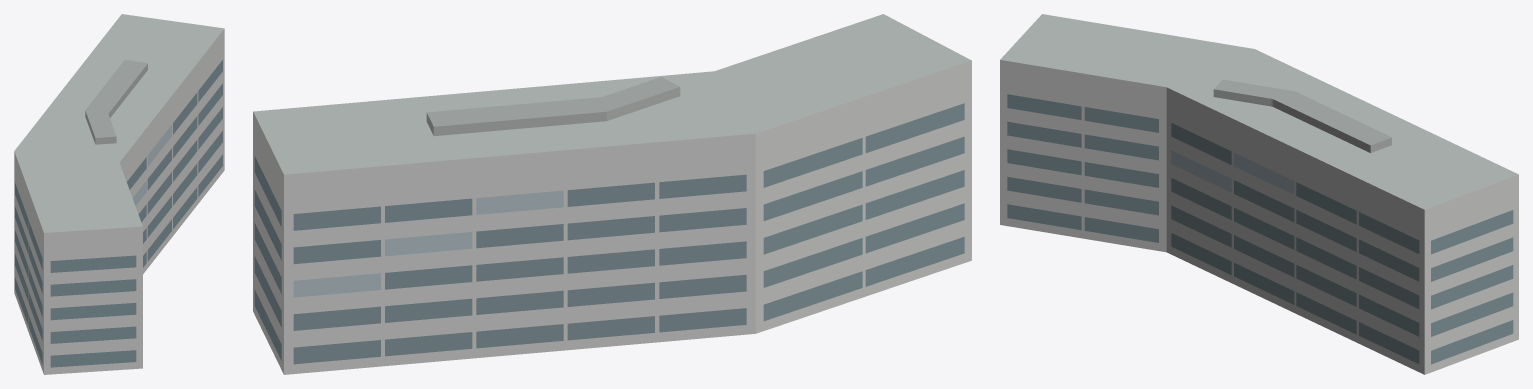
File: fallback-dh-honor-hills-301.glb
3 views of the same model, side by side, from view 1: azimuth 30°, elevation 25°; view 2: azimuth 150°, elevation 25°; view 3: azimuth 270°, elevation 25° (orthographic). The views are drawn at different scales.
Visible parts, largest first — view 1: fallback-dh-honor-hills-301; view 2: fallback-dh-honor-hills-301; view 3: fallback-dh-honor-hills-301.
Boxes of the visible parts, x1,y1,x2,y2 form: fallback-dh-honor-hills-301: [14, 14, 224, 374]; fallback-dh-honor-hills-301: [253, 14, 971, 374]; fallback-dh-honor-hills-301: [1000, 14, 1518, 374].
Size of the model in its own units: 48.59 by 20 by 54.4.
